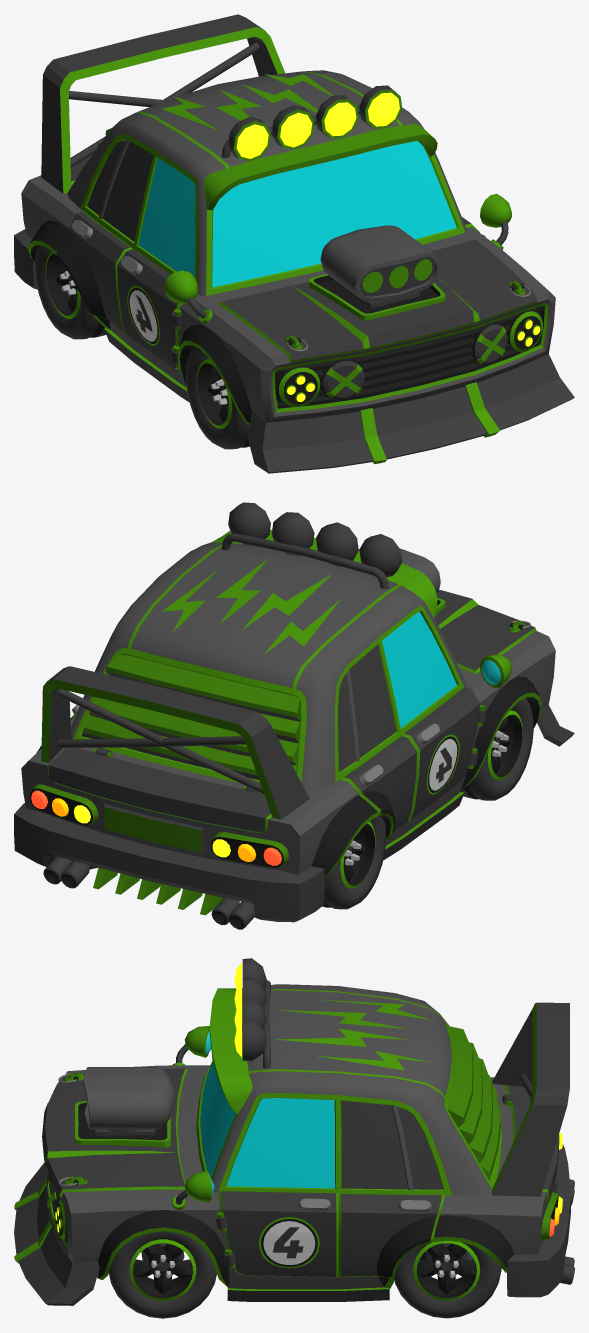
Rendered from SVehicle03.fbx.
3 views of the same model, one above another, from view 1: azimuth 30°, elevation 25°; view 2: azimuth 150°, elevation 25°; view 3: azimuth 270°, elevation 25° (orthographic). The views are drawn at different scales.
Parts seen in each view (by area): view 1: SVehicle03, SV3_Wheel_FR, SV3_Wheel_BR; view 2: SVehicle03, SV3_Wheel_FR, SV3_Wheel_BR; view 3: SVehicle03, SV3_Wheel_FL, SV3_Wheel_BL.
Boxes of the visible parts, bbox=[...] form: SVehicle03: bbox=[14, 14, 574, 473]; SV3_Wheel_FR: bbox=[186, 346, 249, 449]; SV3_Wheel_BR: bbox=[35, 245, 106, 339]; SVehicle03: bbox=[14, 502, 574, 929]; SV3_Wheel_FR: bbox=[461, 698, 533, 800]; SV3_Wheel_BR: bbox=[322, 816, 386, 909]; SVehicle03: bbox=[14, 958, 574, 1305]; SV3_Wheel_FL: bbox=[109, 1231, 216, 1318]; SV3_Wheel_BL: bbox=[394, 1240, 501, 1318].
Size of the model in its own units: 282 by 220 by 422.
Materials: 1 (1 with a texture image).
